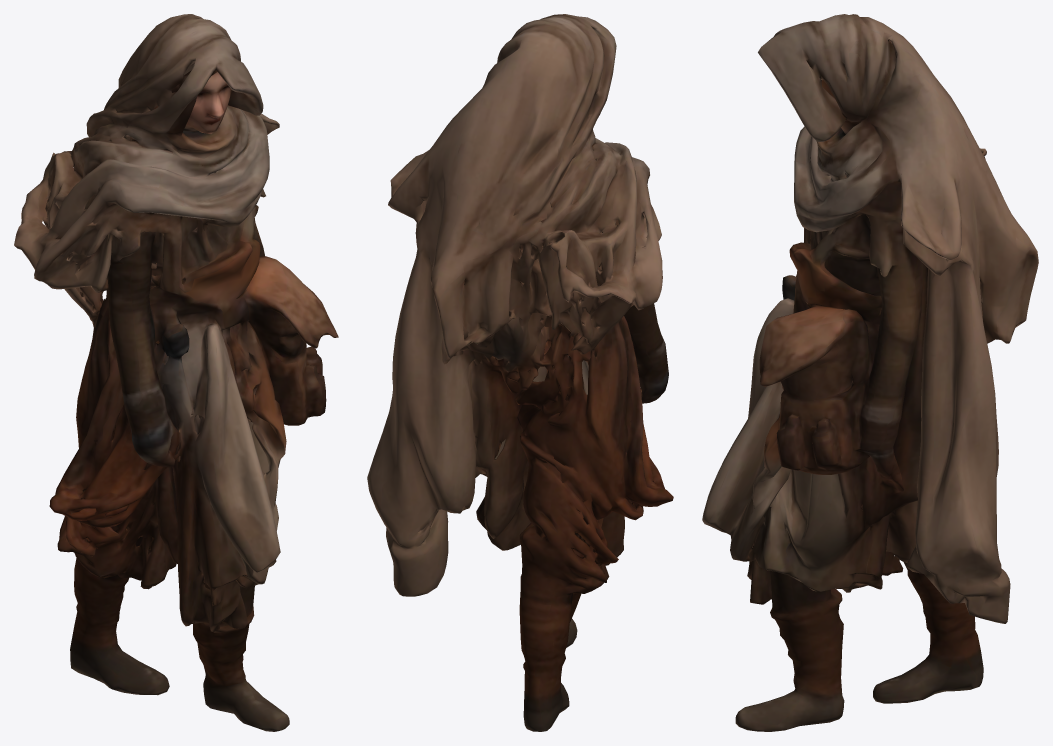
File: trellis2-hooded-person.glb
The picture shows the model from 3 angles, left to right: view 1: azimuth 30°, elevation 25°; view 2: azimuth 150°, elevation 25°; view 3: azimuth 270°, elevation 25°; orthographic projection. The views are drawn at different scales.
Visible parts, largest first — view 1: geometry_0; view 2: geometry_0; view 3: geometry_0.
Boxes of the visible parts, bbox=[...] form: geometry_0: bbox=[14, 14, 338, 731]; geometry_0: bbox=[367, 14, 673, 731]; geometry_0: bbox=[702, 14, 1038, 731].
Bounding box in the file's own units: 0.4062 × 1 × 0.4428.
1 material, 1 textured.
